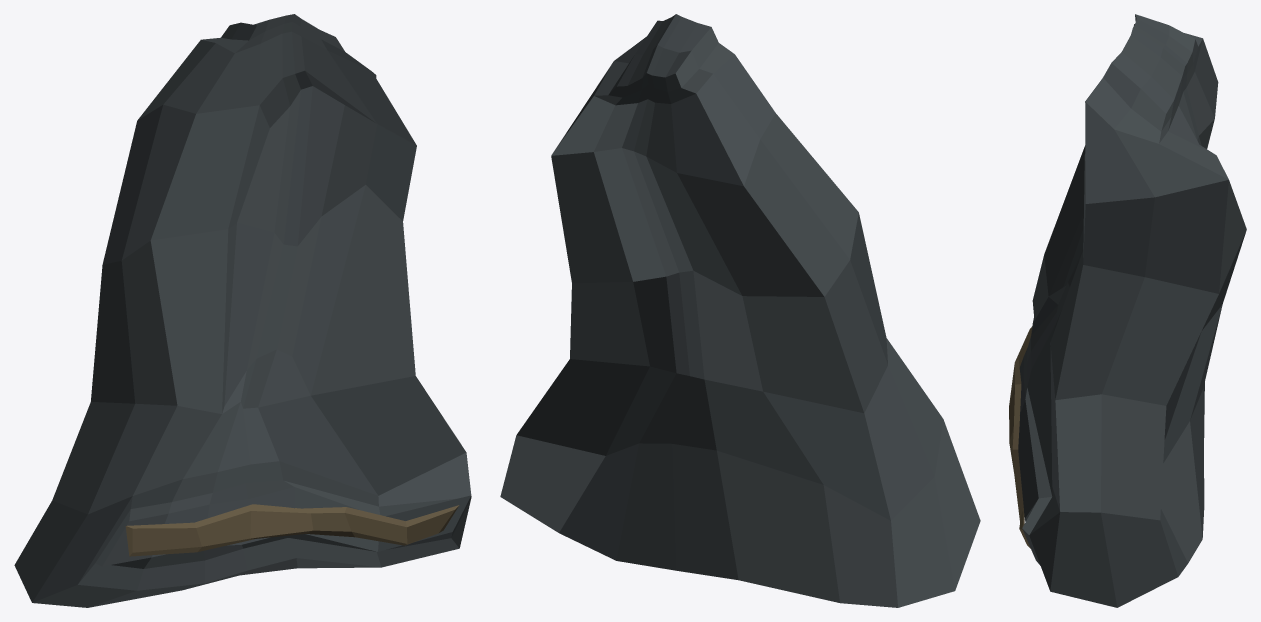
File: Bland Grave 3.fbx
3 renders of one model, left to right at view 1: azimuth 30°, elevation 25°; view 2: azimuth 150°, elevation 25°; view 3: azimuth 270°, elevation 25°, orthographic. The views are drawn at different scales.
Parts seen in each view (by area): view 1: Grave, Plaque; view 2: Grave; view 3: Grave, Plaque.
Part boxes in pixels (x1,y1,x2,y2): Grave: [14, 14, 471, 607]; Plaque: [125, 504, 459, 556]; Grave: [500, 14, 980, 607]; Grave: [1018, 14, 1246, 607]; Plaque: [1009, 326, 1032, 548].
Bounding box in the file's own units: 219 × 271 × 112.
